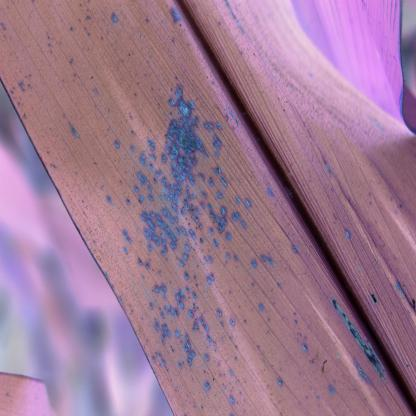Corn rust leaf: (0, 1, 415, 415)
